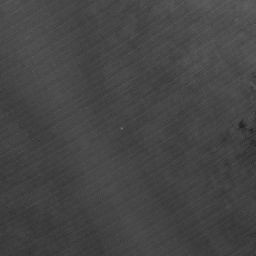Target: (117, 124, 126, 131)
